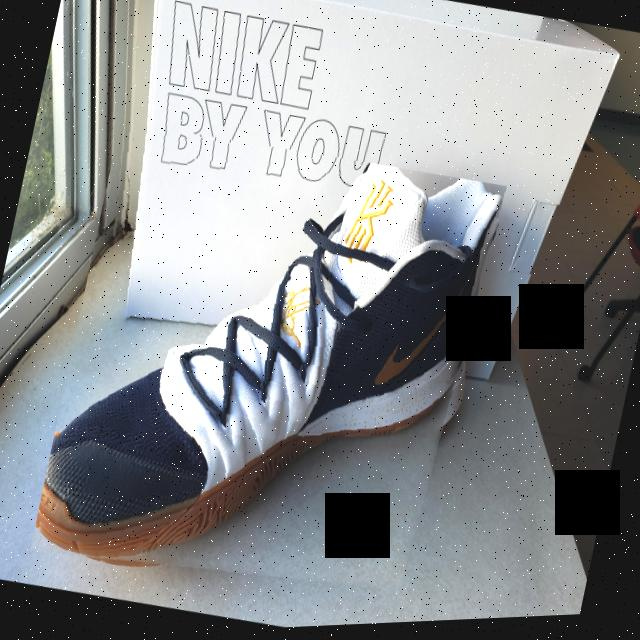shoe: (30, 108, 508, 634)
